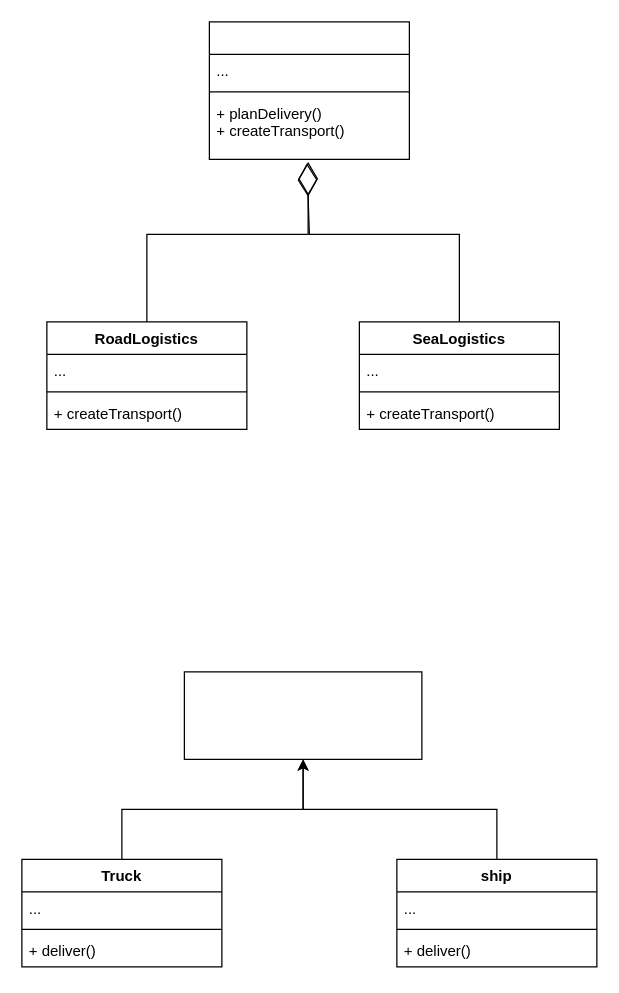
This 619x993 diagram has some shape labels left out. The box of each missing label's shape, as (x1, y1, x2, y2) in pixels:
<<Interface>> Transport + deliver(): (183, 671, 422, 759)
Logistics: (208, 21, 409, 159)
